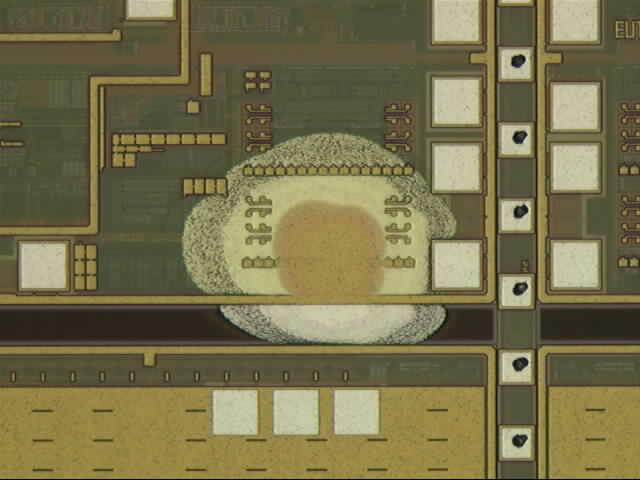BLOCK ETCH: (180, 132, 471, 369)
